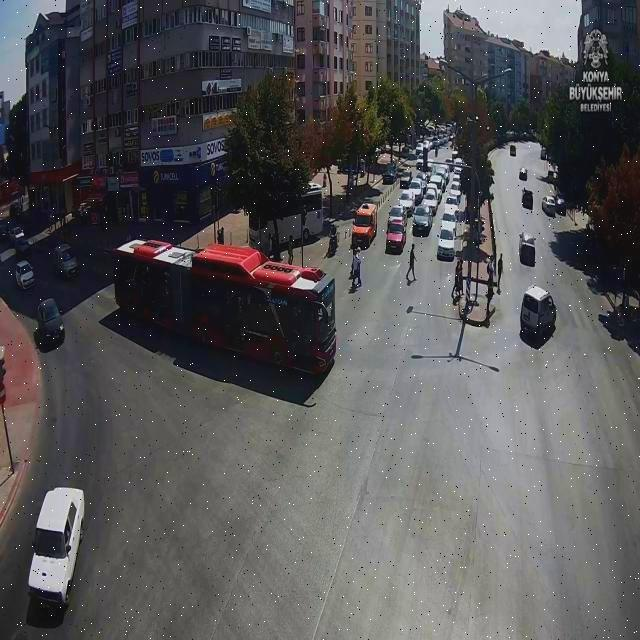Bus: (112, 235, 338, 370), (246, 182, 324, 252)
Car: (23, 479, 89, 618), (518, 287, 560, 335), (36, 302, 68, 353), (50, 247, 78, 278), (436, 226, 455, 262), (411, 205, 433, 236), (386, 221, 406, 255), (12, 262, 33, 292), (519, 234, 536, 266), (386, 206, 407, 226), (400, 189, 413, 217), (422, 191, 437, 213), (428, 174, 445, 191), (543, 195, 556, 217), (444, 198, 460, 215), (385, 166, 398, 186), (400, 169, 413, 188), (520, 165, 530, 183), (522, 190, 532, 208), (508, 144, 518, 160)
Truck: (351, 204, 377, 249)
